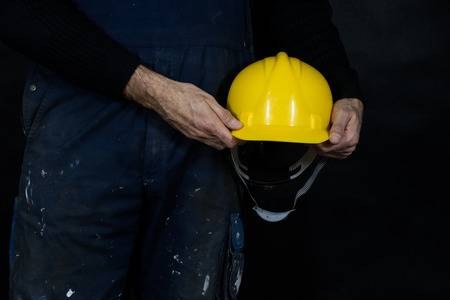hard hat: (219, 51, 339, 221)
